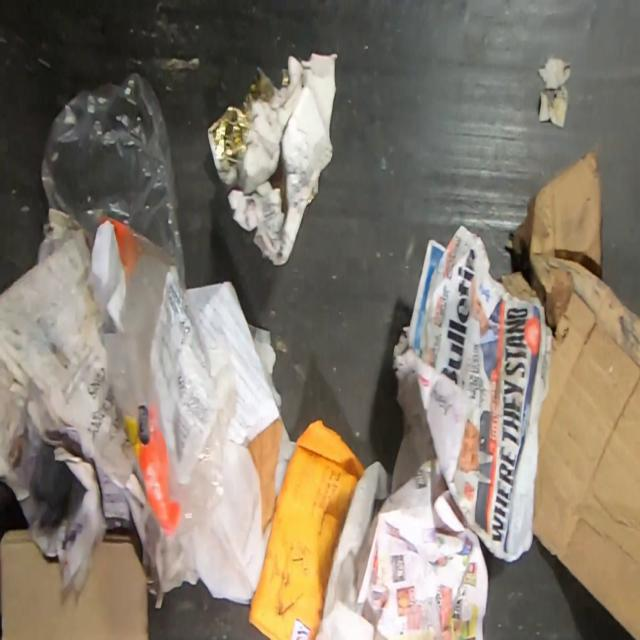cardboard: (500, 147, 640, 640), (0, 528, 149, 640)
soft_plastic: (42, 74, 238, 545)
